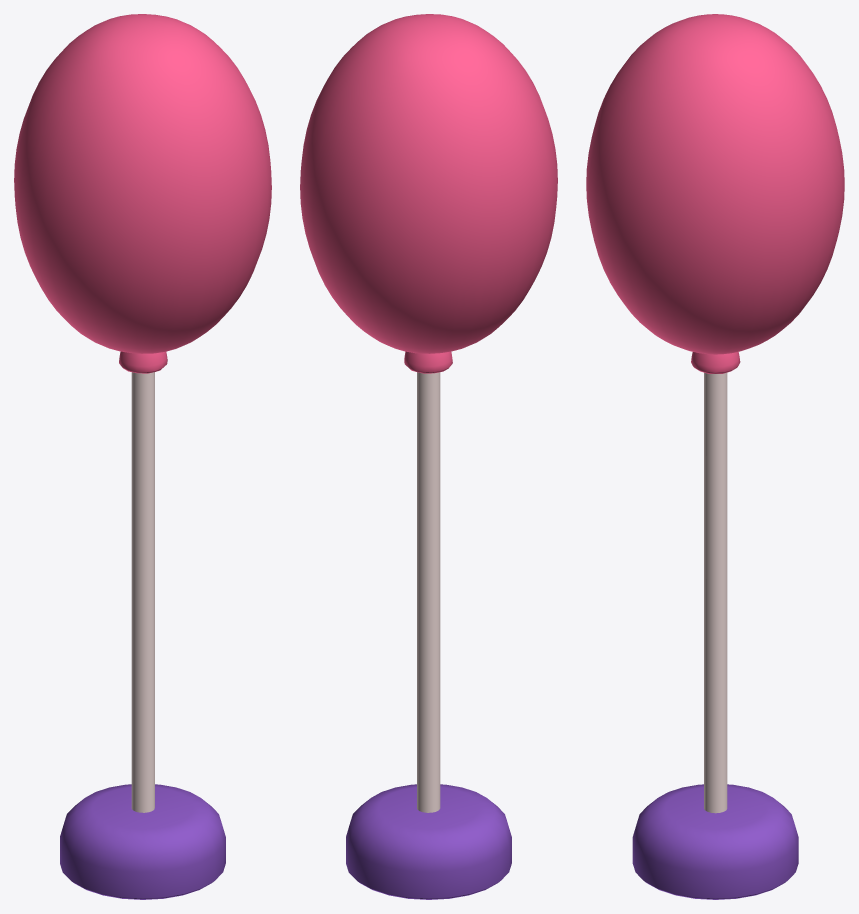
Rendered from Public_14_Air_Balloon_1.glb.
3 views of the same model, side by side, from view 1: azimuth 30°, elevation 25°; view 2: azimuth 150°, elevation 25°; view 3: azimuth 270°, elevation 25° (orthographic).
Parts seen in each view (by area): view 1: Public_14_Air_Balloon_1; view 2: Public_14_Air_Balloon_1; view 3: Public_14_Air_Balloon_1.
Boxes of the visible parts, box(x1,y1,x2,y2) form: Public_14_Air_Balloon_1: box(14, 14, 271, 899); Public_14_Air_Balloon_1: box(300, 14, 557, 899); Public_14_Air_Balloon_1: box(586, 14, 844, 899).
Bounding box in the file's own units: 0.6591 × 2.37 × 0.6591.
Materials: 1 (1 with a texture image).
